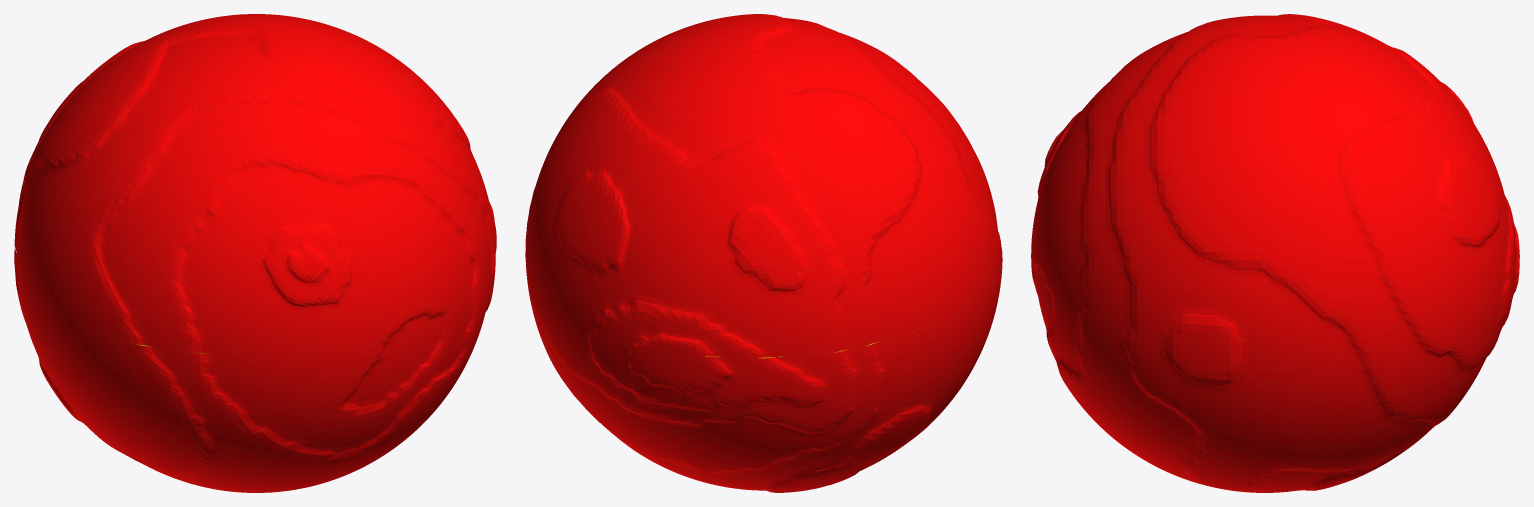
The picture shows the model from 3 angles, left to right: view 1: azimuth 30°, elevation 25°; view 2: azimuth 150°, elevation 25°; view 3: azimuth 270°, elevation 25°; orthographic projection.
Visible parts, largest first — view 1: Renderer Node; view 2: Renderer Node; view 3: Renderer Node.
Part boxes in pixels (left/top/right/bottom): Renderer Node: left=14, top=14, right=496, bottom=492; Renderer Node: left=525, top=14, right=1002, bottom=492; Renderer Node: left=1031, top=14, right=1519, bottom=492.
Bounding box in the file's own units: 1.76e+16 × 1.76e+16 × 1.78e+16.
